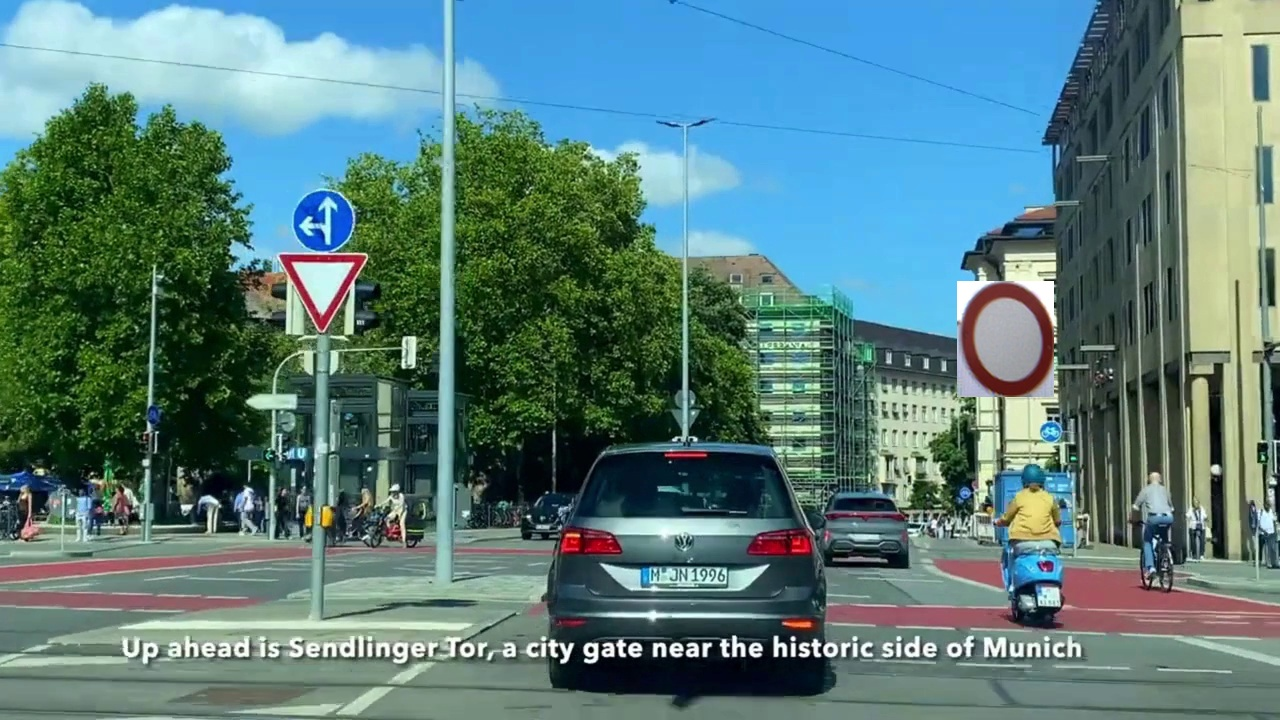No vehicles: (957, 281, 1054, 397)
